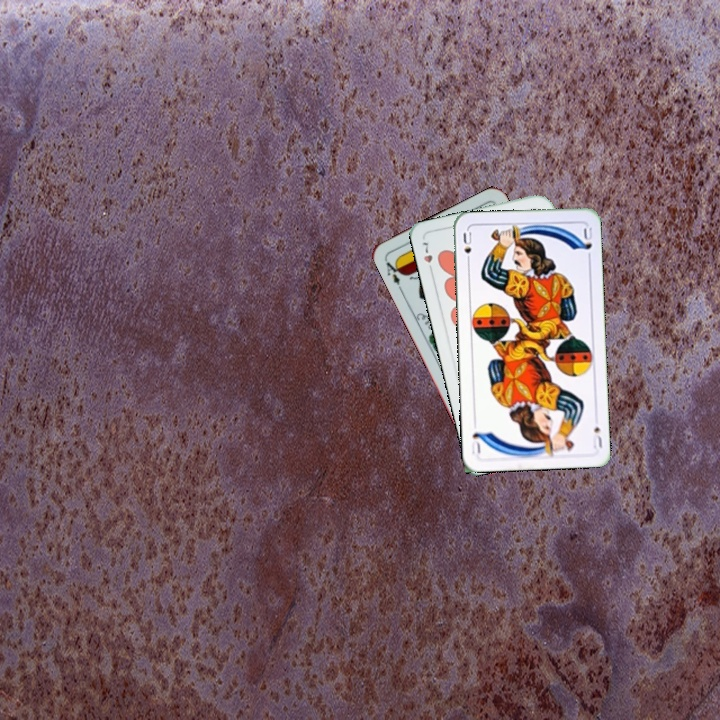EA: (380, 255, 406, 293)
H7: (418, 237, 435, 276)
SU: (459, 227, 474, 267), (590, 422, 605, 451)
